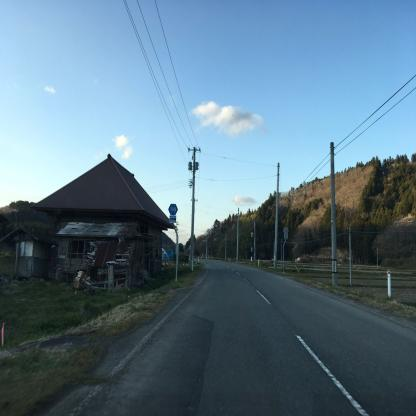Someiyoshino: (393, 210, 416, 232)
